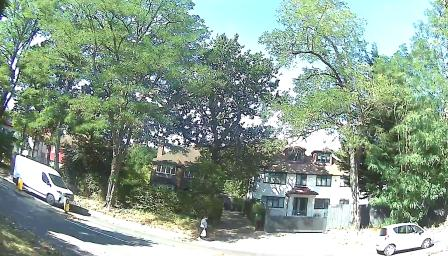Cars: (12, 149, 78, 209), (369, 224, 438, 254)
